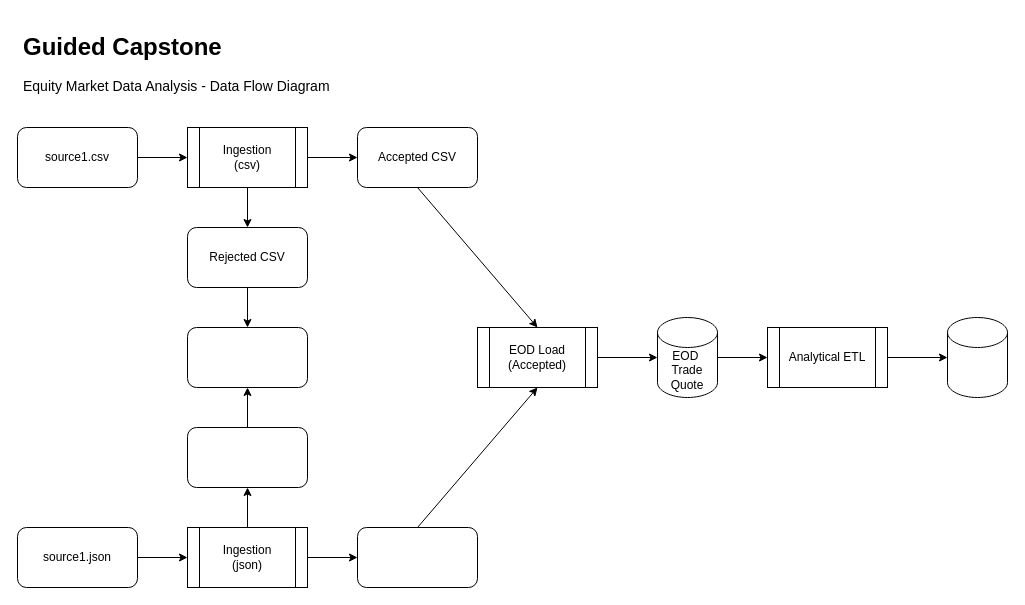
The diagram is 1025 pixels wide and 605 high, and some of its shapes have lost their labels. The shapes that lost their labels are listed below. From the top down, each one's box as (x1, y1, x2, y2) in pixels, then its label:
(186, 326, 308, 388): Rejected Files
(946, 316, 1008, 398): quote-trade-analytical
(186, 426, 308, 488): Rejected JSON
(356, 526, 478, 588): Accepted JSON
